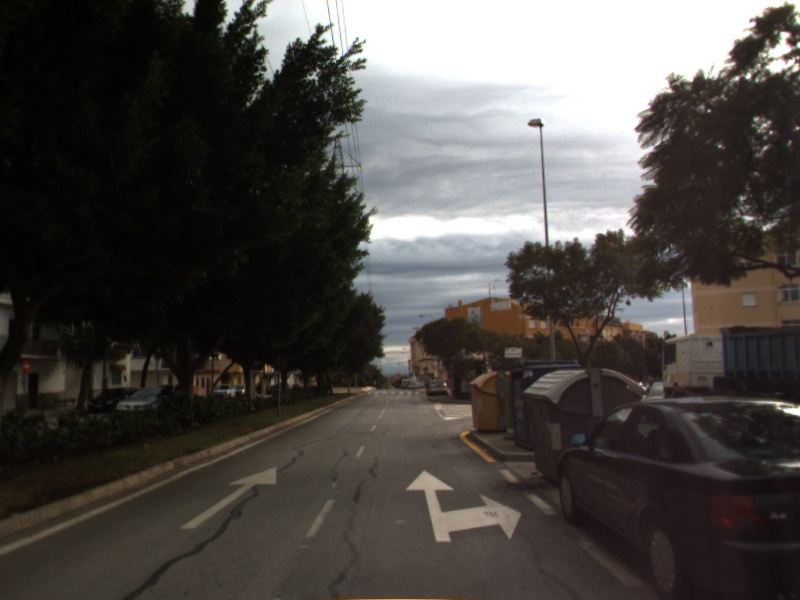STRAIGHT: (178, 463, 279, 531)
STRAIGHT_RIGHT: (403, 467, 524, 544)
